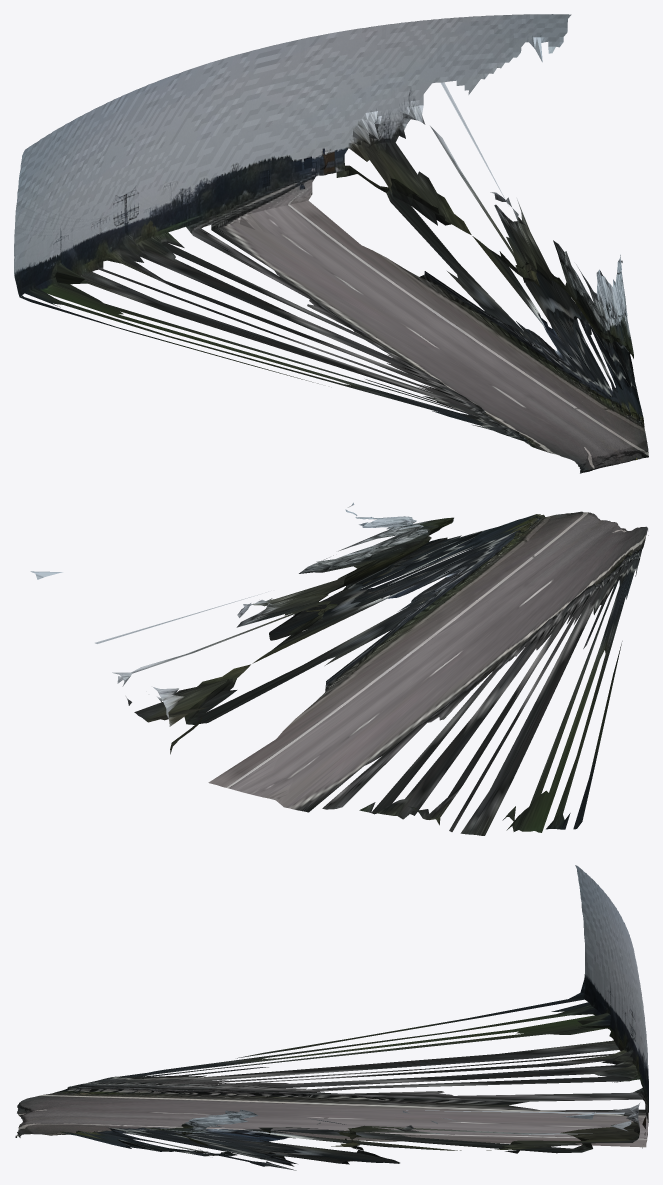
3 renders of one model, top to bottom at view 1: azimuth 30°, elevation 25°; view 2: azimuth 150°, elevation 25°; view 3: azimuth 270°, elevation 25°, orthographic. The views are drawn at different scales.
Parts seen in each view (by area): view 1: defaultobject; view 2: defaultobject; view 3: defaultobject.
Boxes of the visible parts, x1,y1,x2,y2 form: defaultobject: (14,14,648,473); defaultobject: (30,502,648,835); defaultobject: (15,865,648,1170).
Bounding box in the file's own units: 40.2 × 12.12 × 44.54.
Materials: 1 (1 with a texture image).
